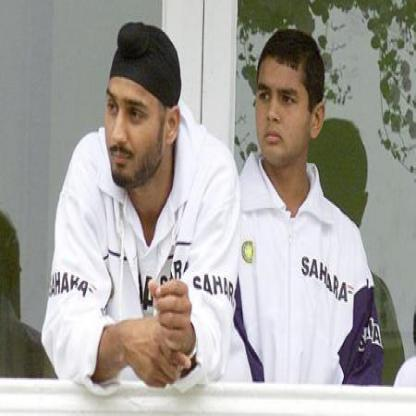face: (101, 40, 171, 193), (254, 31, 317, 170)
